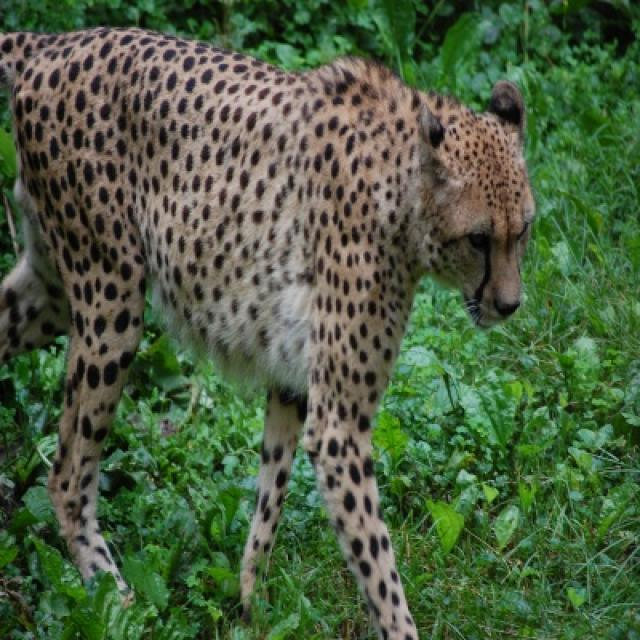Cheetah: (0, 21, 532, 638)
